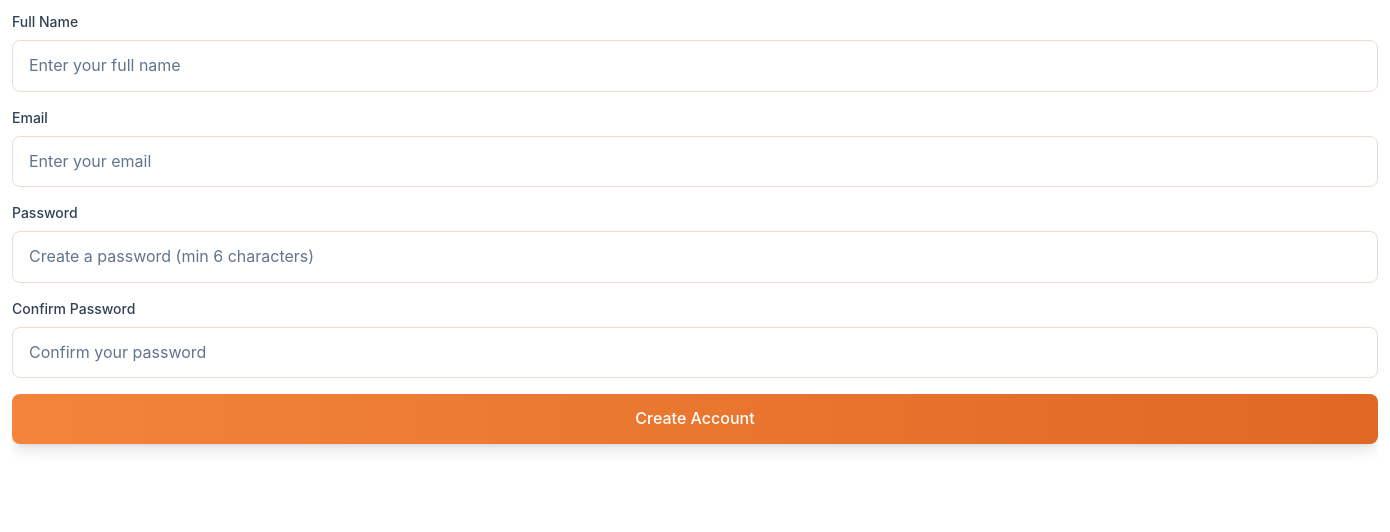
Test: RegisterForm › Error Handling › displays user-friendly error message on registration failure
The image size is (1390, 532).
In the field labelled "Full Name": (695, 66) [12, 40, 1378, 92], type "John Doe"
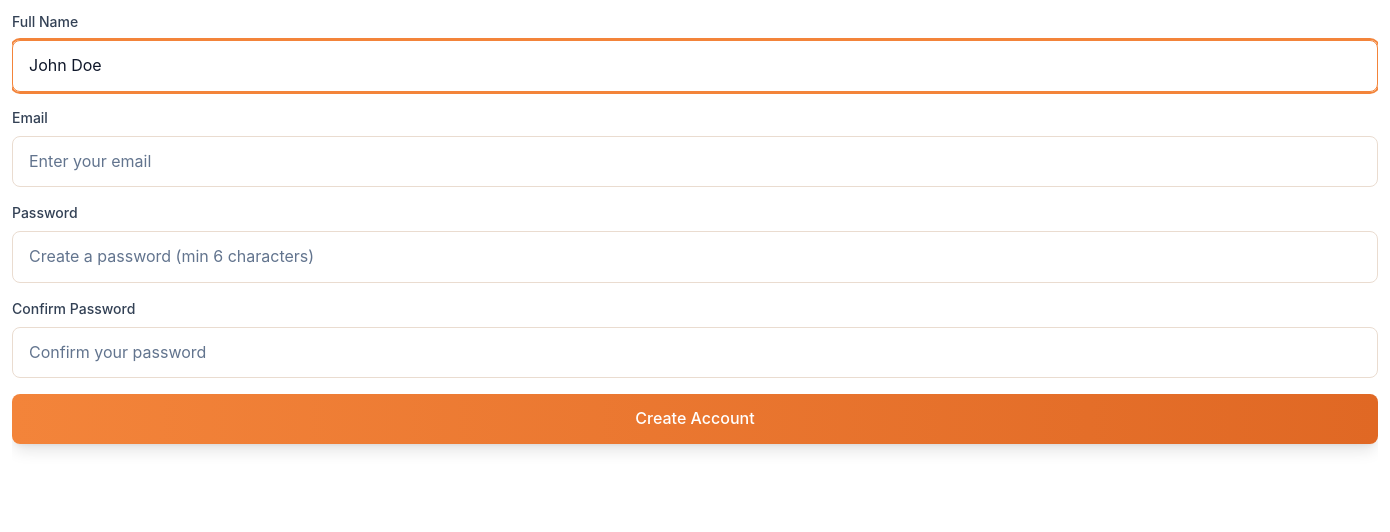
In the field labelled "Email": (695, 161) [12, 136, 1378, 187], type "john@example.com"
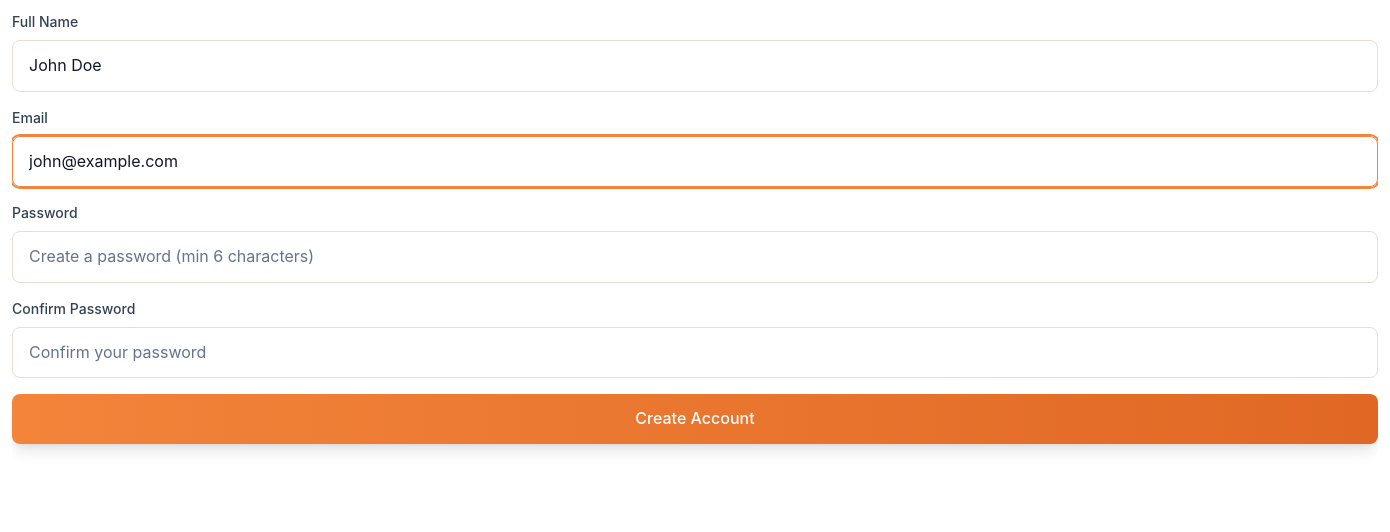
In the password field labelled "Password": (695, 257) [12, 231, 1378, 283], type "password123"
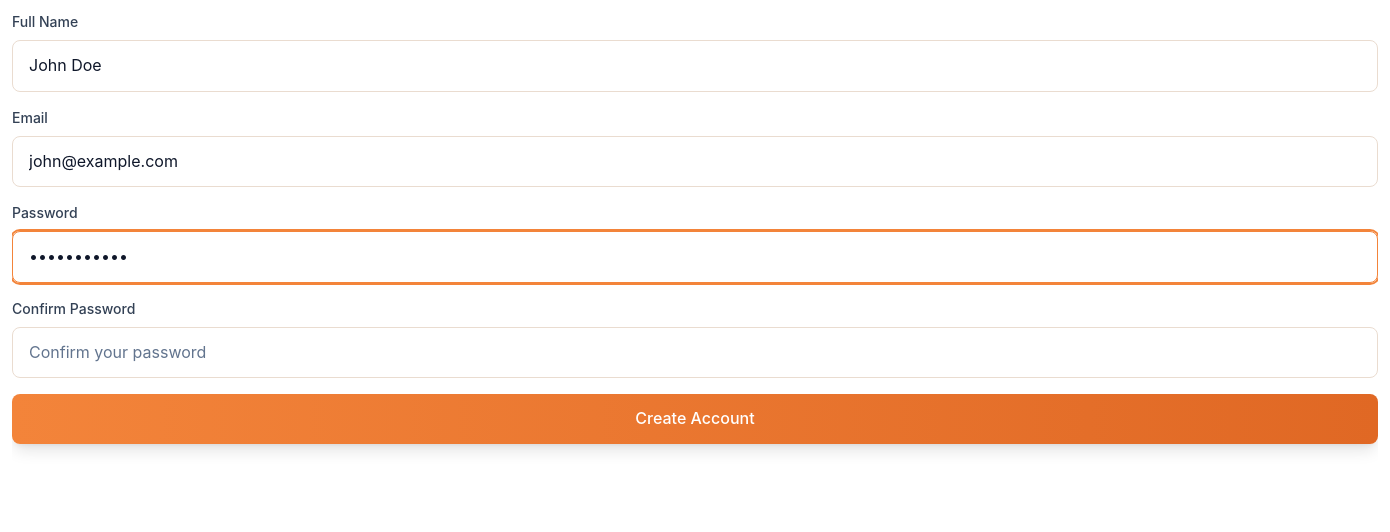
In the password field labelled "Confirm Password": (695, 353) [12, 327, 1378, 378], type "password123"
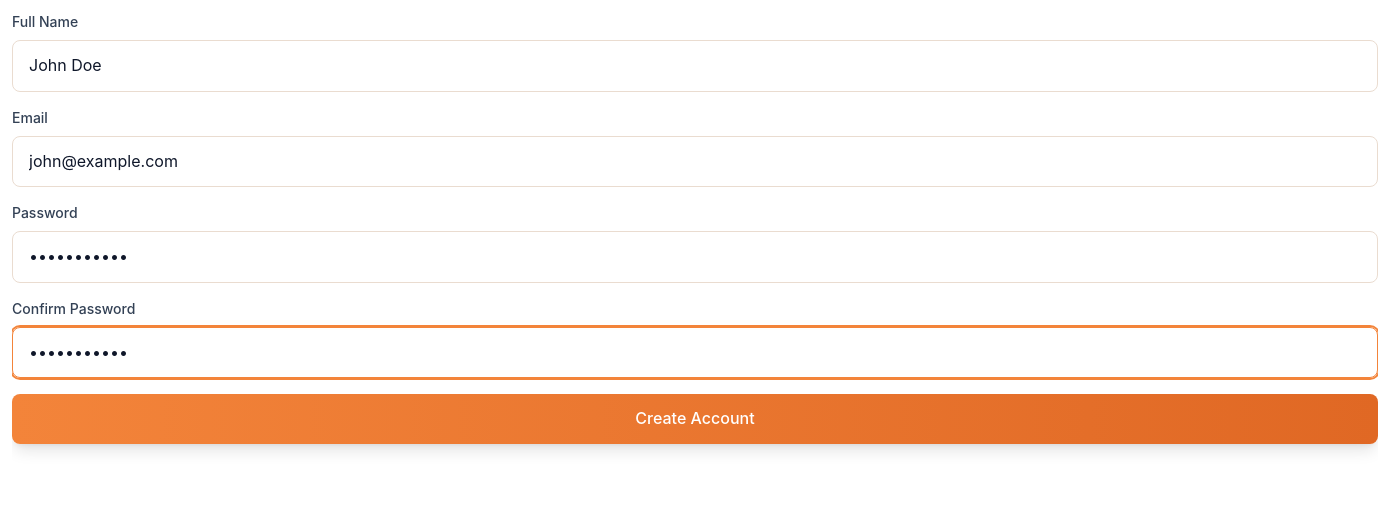
Click the button "Create Account": (695, 419) [12, 394, 1378, 444]
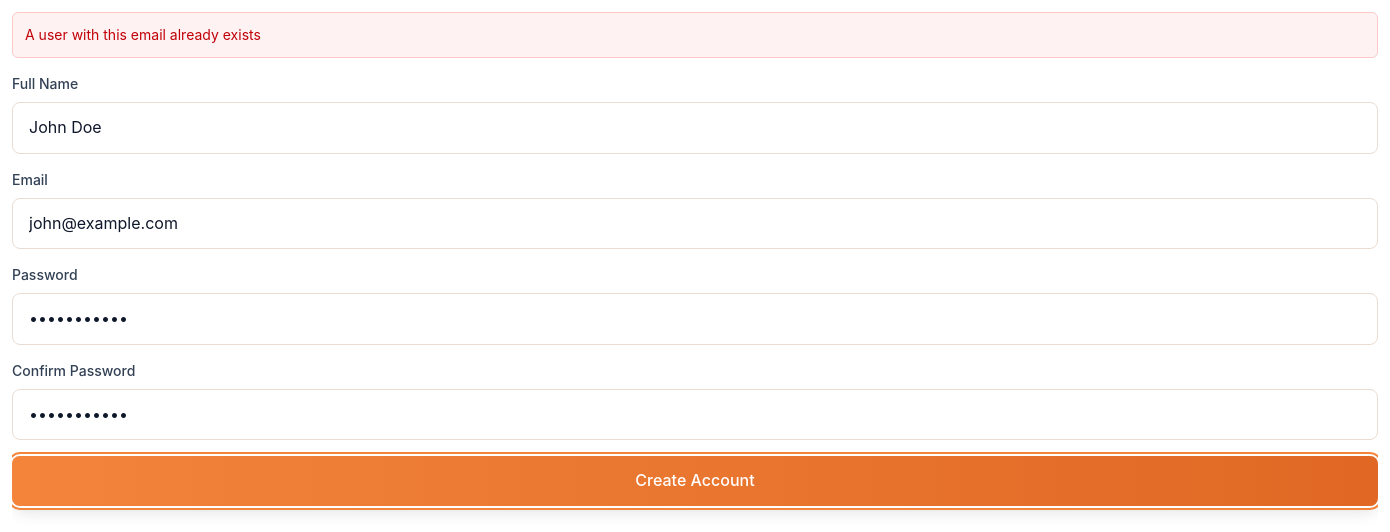
expect the text "A user with this email already exists" is shown: met, box [12, 12, 1378, 58]
